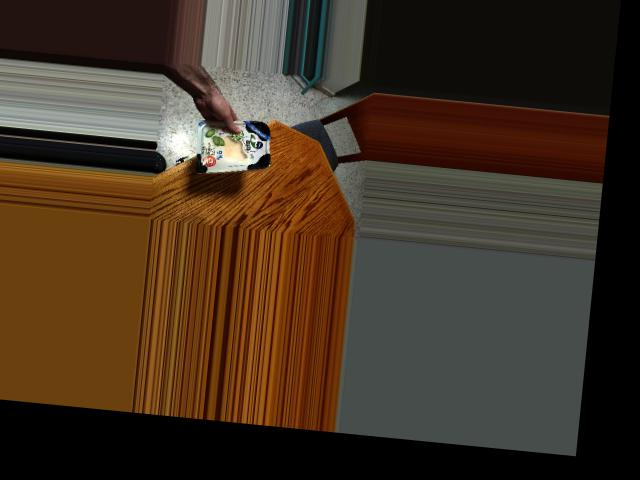cheese: (200, 116, 270, 174)
